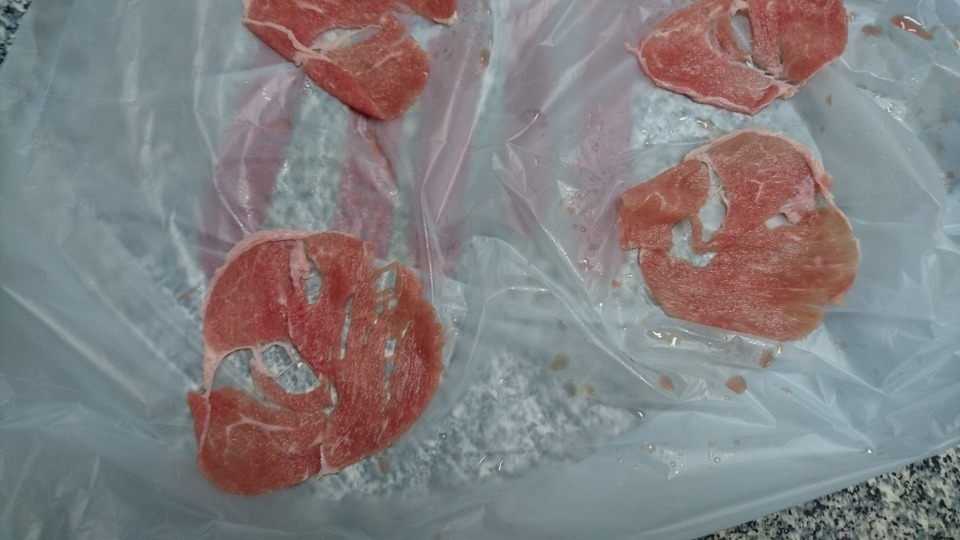restructured meat: (189, 227, 457, 492), (602, 119, 861, 359), (617, 1, 860, 113), (243, 1, 458, 115)
